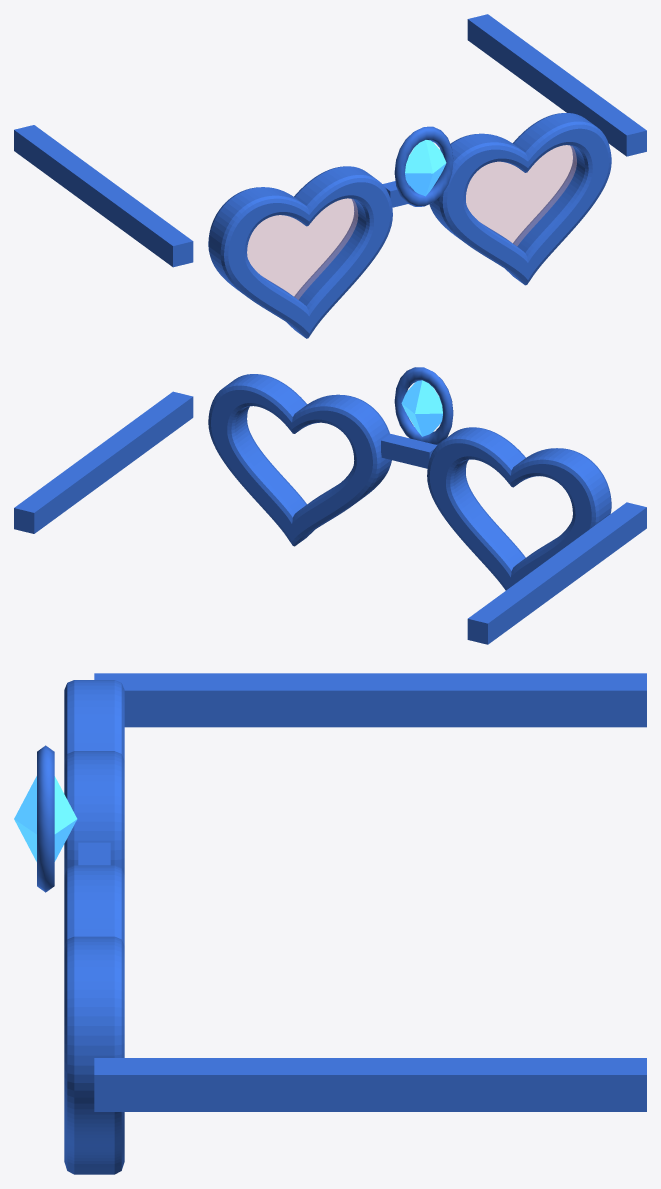
The model's file is gl_eqmo1.glb.
3 renders of one model, top to bottom at view 1: azimuth 30°, elevation 25°; view 2: azimuth 150°, elevation 25°; view 3: azimuth 270°, elevation 25°, orthographic. The views are drawn at different scales.
Bounding box in the file's own units: 1.8 × 0.6948 × 1.2.
